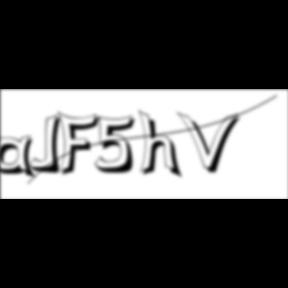5: (94, 114, 142, 176)
F: (57, 110, 105, 178)
J: (28, 114, 68, 176)
V: (178, 110, 244, 176)
a: (0, 135, 40, 182)
h: (138, 108, 186, 182)
